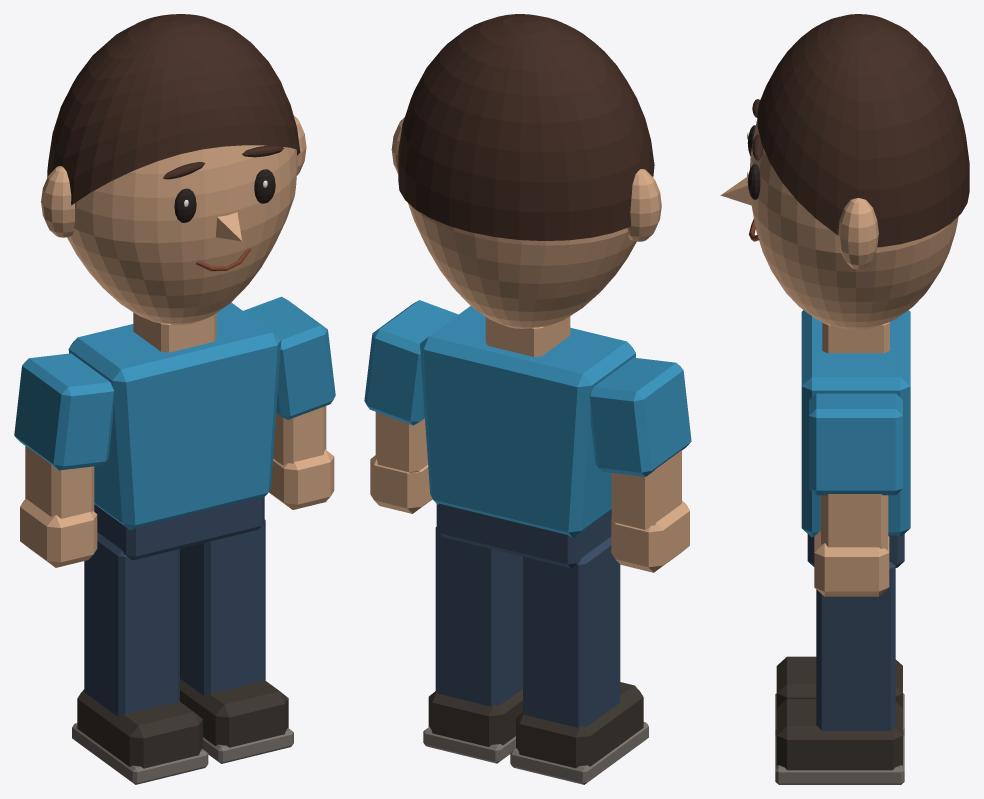
Rendered from avatar-mii-kenney-01.fbx.
The picture shows the model from 3 angles, left to right: view 1: azimuth 30°, elevation 25°; view 2: azimuth 150°, elevation 25°; view 3: azimuth 270°, elevation 25°; orthographic projection.
Parts seen in each view (by area): view 1: Corpo_01, Cabelo_01, Cabeca_01, Perna_L, Perna_R, Manga, Sapato_L, Manga.001, Quadril, Sapato_R, Mao, Antebraco (+9 smaller); view 2: Cabelo_01, Corpo_01, Perna_L, Cabeca_01, Perna_R, Manga, Manga.001, Quadril, Sapato_L, Sapato_R, Antebraco, Mao (+6 smaller); view 3: Cabelo_01, Cabeca_01, Perna_R, Corpo_01, Manga.001, Sapato_R, Mao.001, Antebraco.001, Orelha_R, Sola.001, Sapato_L, Pescoco (+2 smaller).
Boxes of the visible parts, x1,y1,x2,y2 form: Corpo_01: [68, 302, 281, 530]; Cabelo_01: [47, 14, 300, 205]; Cabeca_01: [67, 145, 297, 324]; Perna_L: [84, 532, 179, 716]; Perna_R: [180, 519, 265, 695]; Manga: [14, 353, 114, 470]; Sapato_L: [77, 689, 202, 768]; Manga.001: [243, 296, 335, 419]; Quadril: [94, 497, 264, 560]; Sapato_R: [180, 679, 288, 747]; Mao: [20, 499, 97, 567]; Antebraco: [25, 445, 94, 518]; Cabelo_01: [398, 14, 654, 240]; Corpo_01: [420, 306, 635, 537]; Perna_L: [523, 536, 620, 727]; Cabeca_01: [408, 203, 636, 328]; Perna_R: [435, 527, 522, 706]; Manga: [589, 357, 691, 476]; Manga.001: [364, 300, 458, 425]; Quadril: [436, 503, 611, 568]; Sapato_L: [516, 682, 643, 768]; Sapato_R: [428, 689, 522, 746]; Antebraco: [611, 450, 681, 529]; Mao: [611, 500, 689, 572]; Cabelo_01: [757, 14, 969, 247]; Cabeca_01: [750, 120, 958, 329]; Perna_R: [816, 562, 895, 730]; Corpo_01: [801, 310, 910, 537]; Manga.001: [809, 393, 902, 495]; Sapato_R: [776, 699, 902, 770]; Mao.001: [814, 531, 889, 596]; Antebraco.001: [821, 494, 888, 549]; Orelha_R: [838, 198, 878, 269]; Sola.001: [775, 735, 904, 784]; Sapato_L: [776, 656, 902, 707]; Pescoco: [822, 322, 889, 353].
Size of the model in its own units: 114 by 271 by 84.83.
